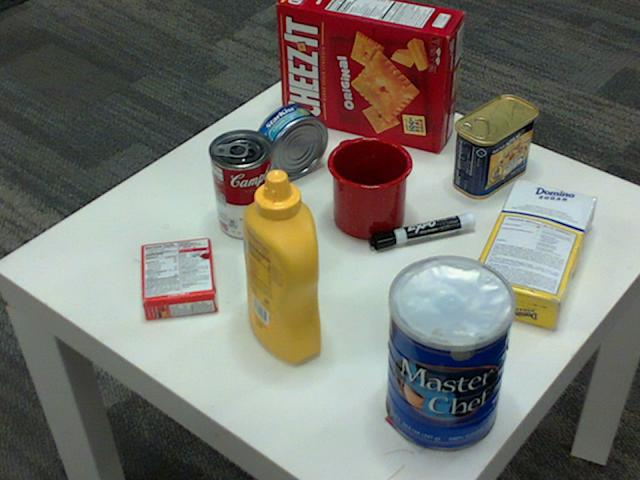cracker_box: (278, 0, 464, 152)
gelatin_box: (137, 236, 214, 319)
large_marker: (370, 216, 476, 249)
master_chef_can: (387, 257, 518, 454)
mug: (325, 135, 411, 238)
mustard_bottle: (242, 170, 319, 363)
potted_meat_can: (453, 96, 536, 199)
sugar_box: (465, 178, 595, 332)
tomato_soup_can: (209, 129, 276, 240)
tuna_fish_can: (253, 103, 327, 179)
